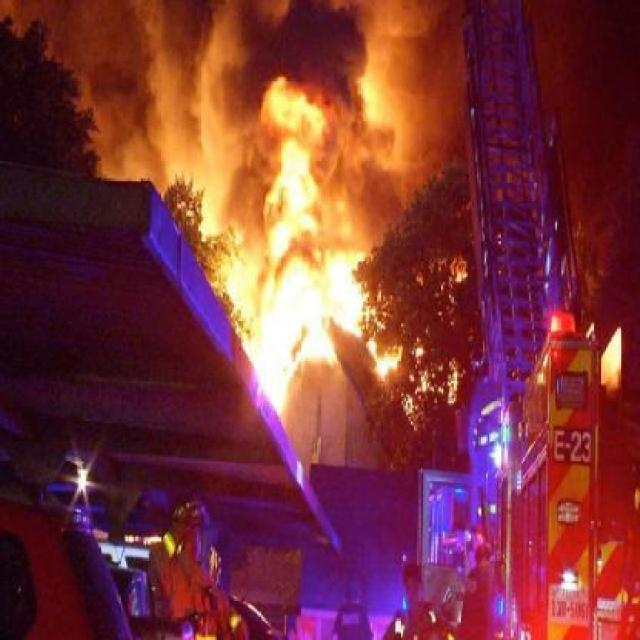Fire: (183, 0, 409, 463)
Smoke: (29, 0, 185, 191), (236, 0, 392, 120)
